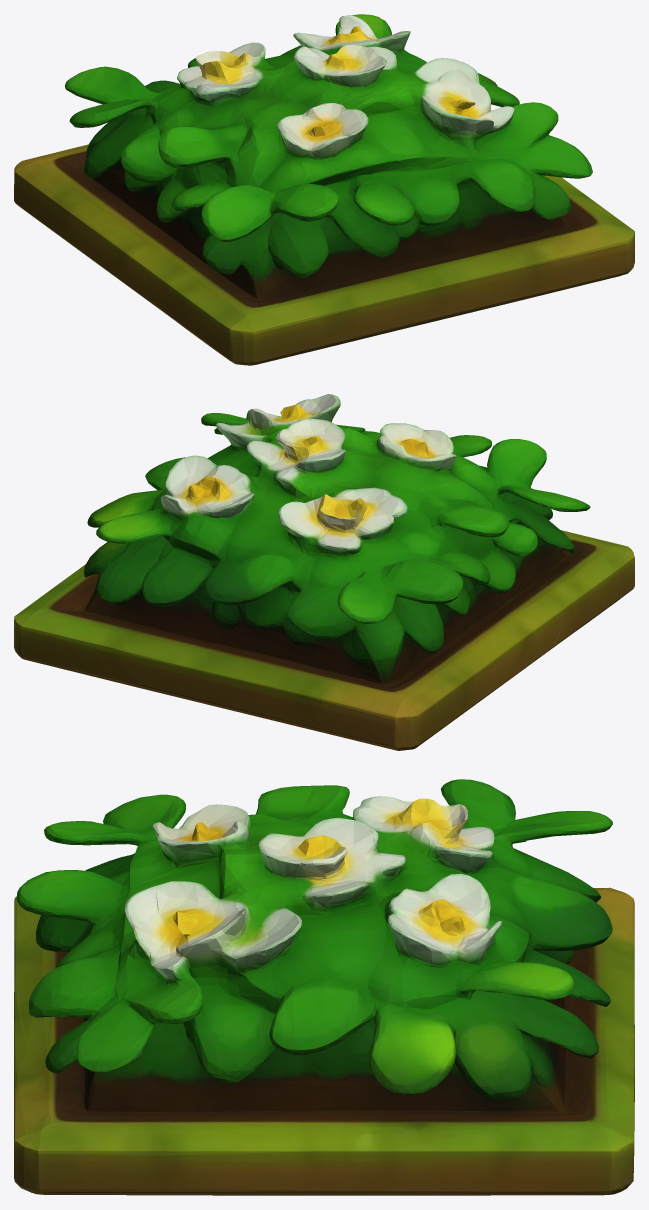
Rendered from white_yellow_flower_bed.glb.
The picture shows the model from 3 angles, top to bottom: view 1: azimuth 30°, elevation 25°; view 2: azimuth 150°, elevation 25°; view 3: azimuth 270°, elevation 25°; orthographic projection. The views are drawn at different scales.
Visible parts, largest first — view 1: geometry_0; view 2: geometry_0; view 3: geometry_0.
Part boxes in pixels (box(x1,y1,x2,y2)): geometry_0: box(14, 14, 634, 365); geometry_0: box(14, 394, 634, 750); geometry_0: box(14, 779, 634, 1195).
Bounding box in the file's own units: 0.9997 × 0.4225 × 0.9982.
1 material, 1 textured.
